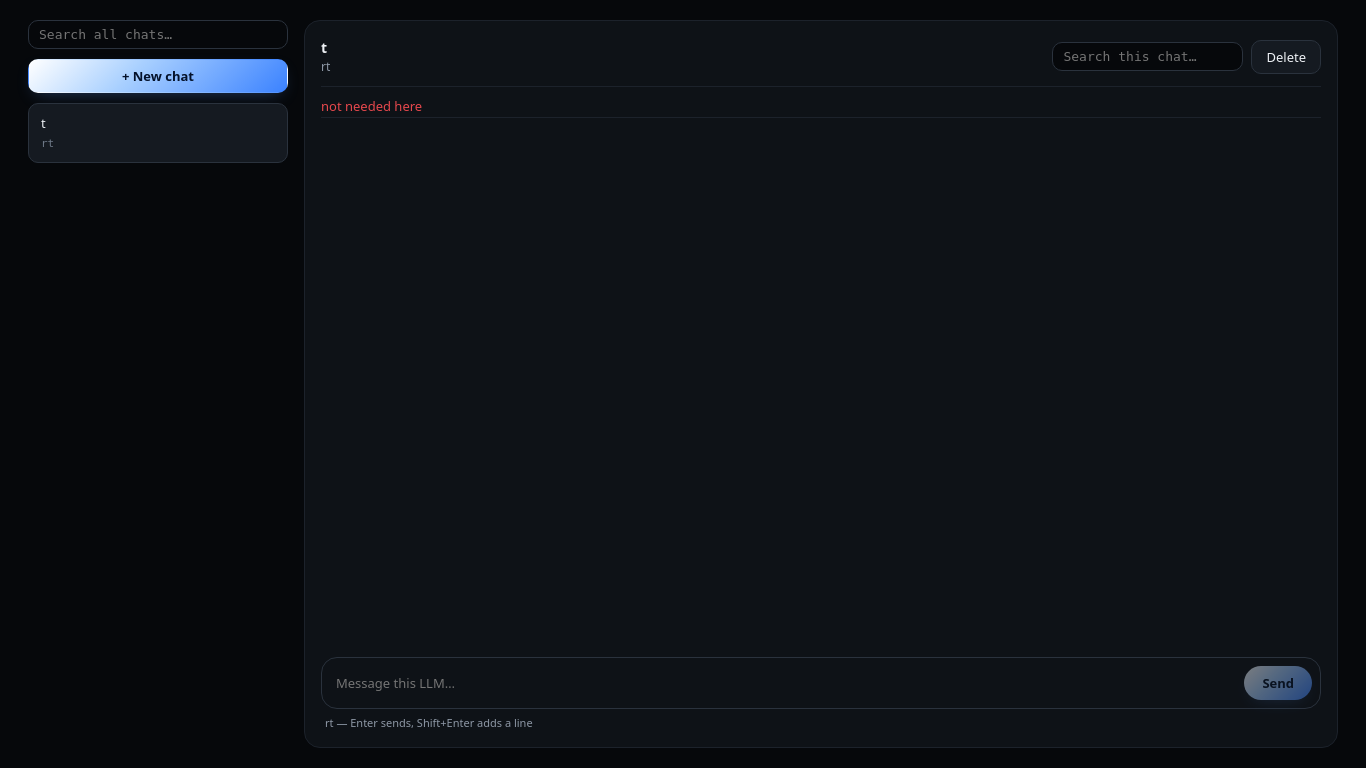
Test case: ChatView streaming send › a tool step shows up as its own bubbles while streaming
The image size is (1366, 768).
Type "go" into the text box with placeholder "Message this LLM…" at (786, 682), box [336, 666, 1236, 700]
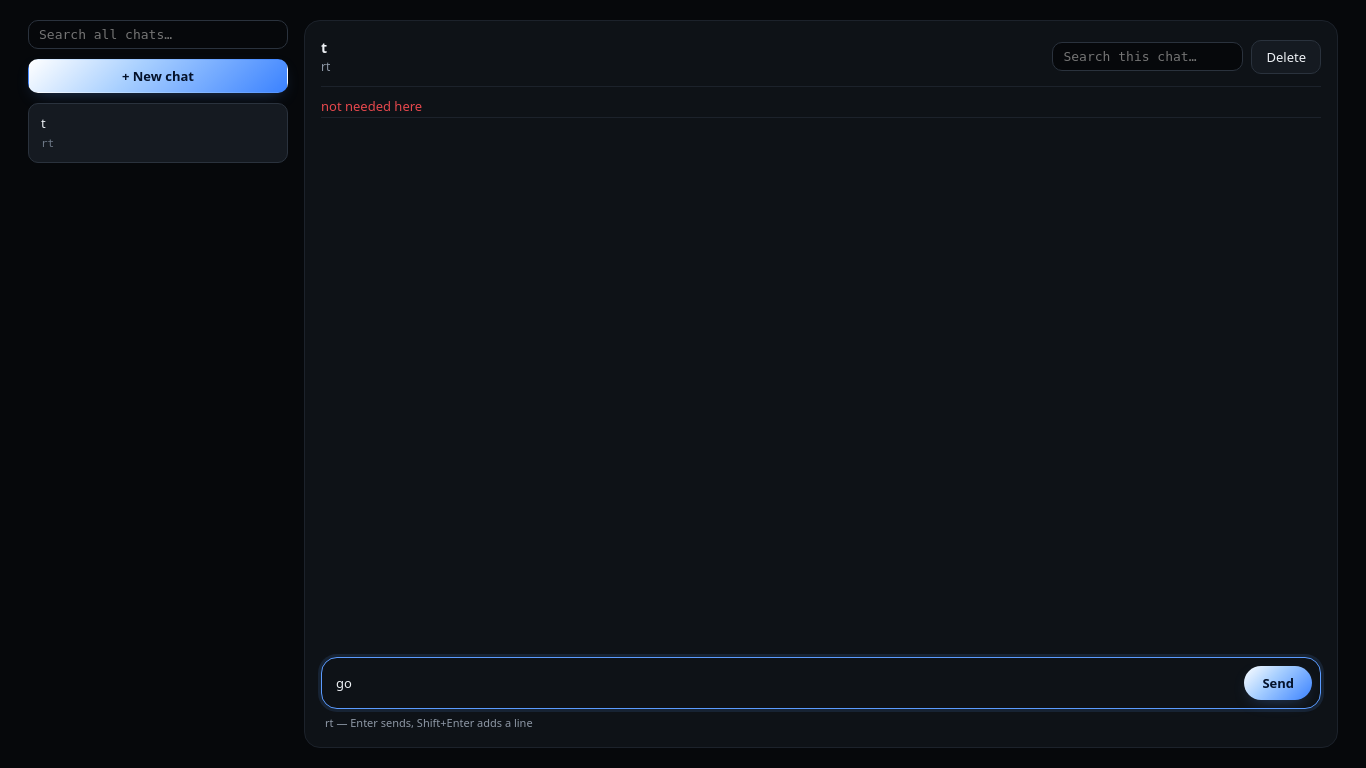
Click the button "Send" at (1278, 682), box [1244, 666, 1312, 700]
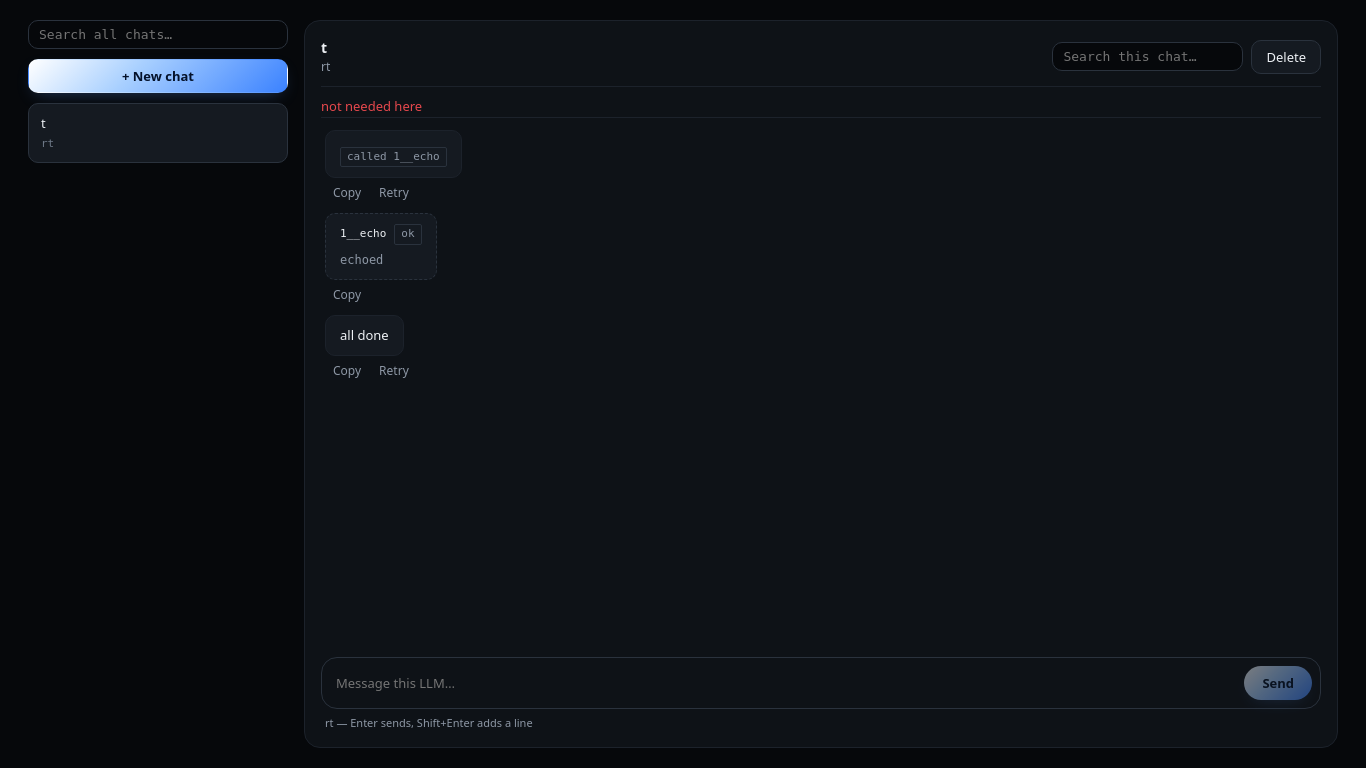
Expected: the text "called 1__echo" is shown, [340, 146, 447, 167]
Expected: the text "echoed" is shown, [340, 252, 383, 266]
Expected: the text "all done" is shown, [325, 314, 404, 356]
